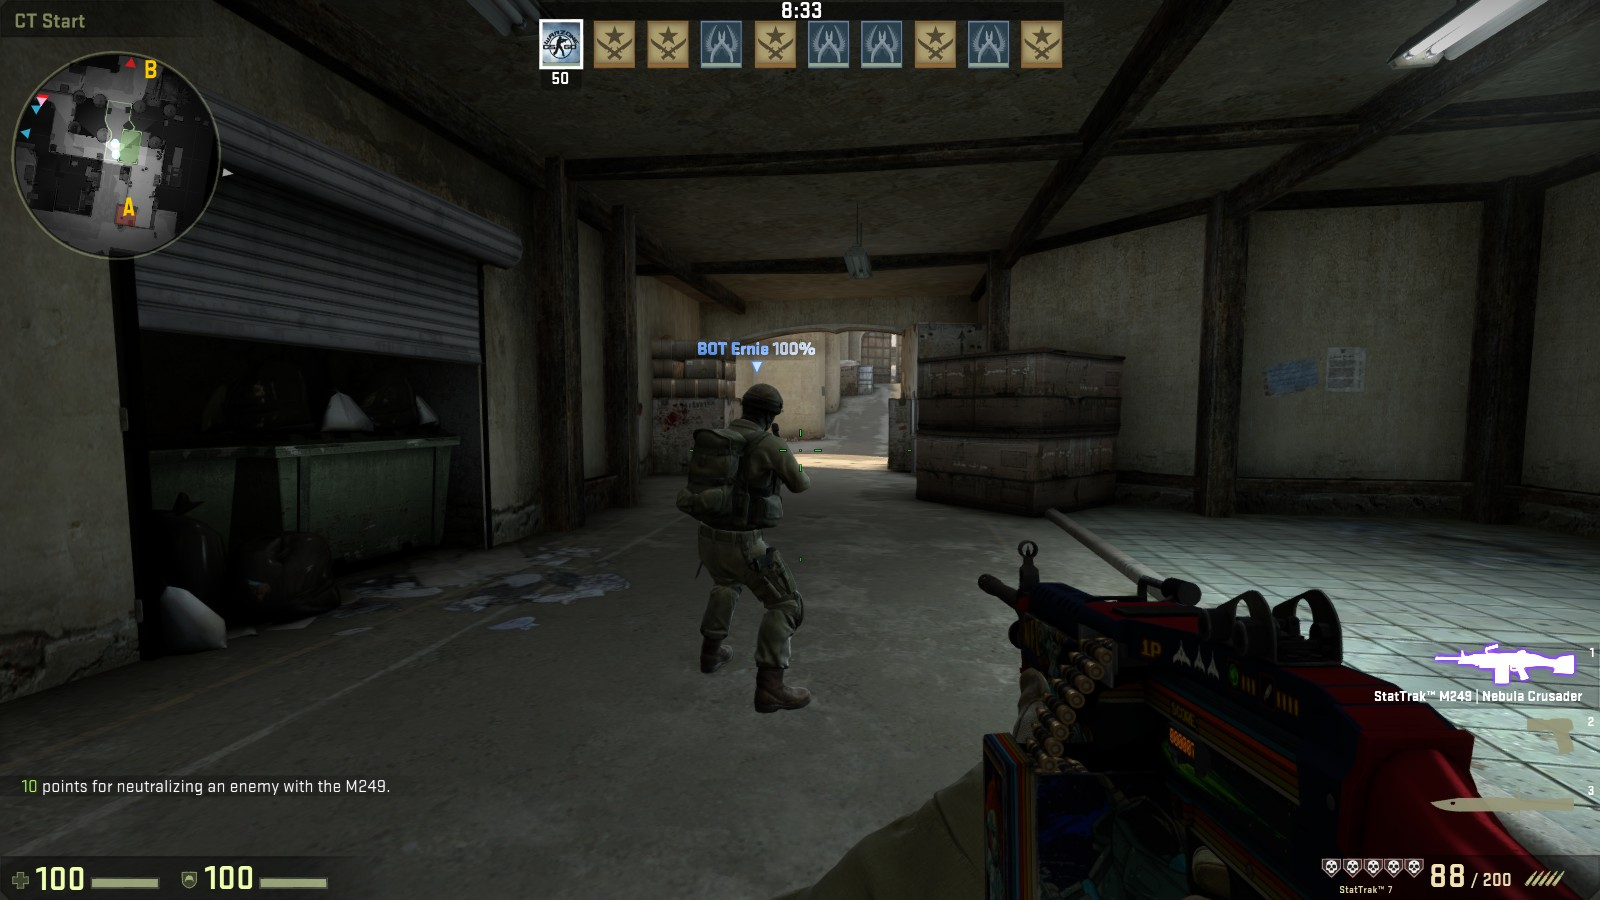c: (684, 379, 818, 714)
ch: (734, 378, 786, 438)
